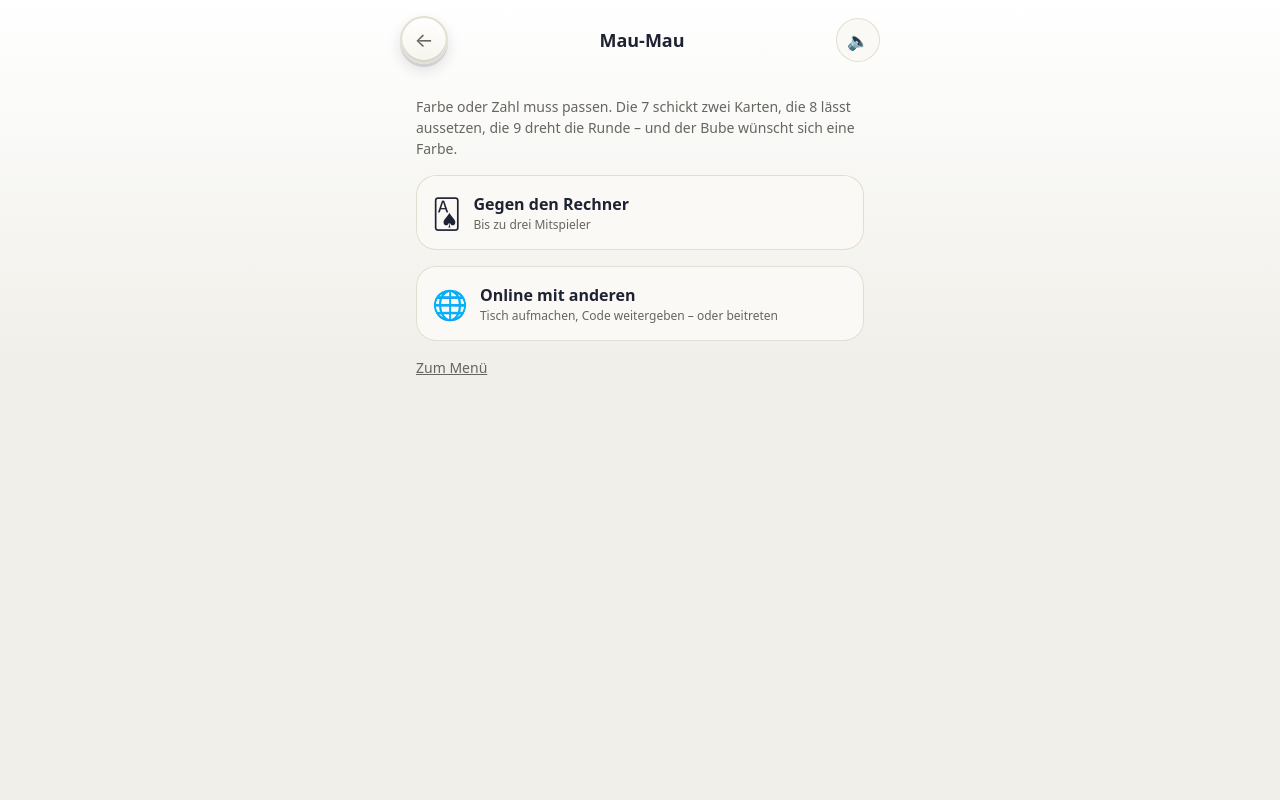
Test: Mau-Mau › teilt fünf Karten aus und zeigt den Nachziehstapel
Click the button "🂡 Gegen den Rechner Bis zu drei Mitspieler" at (551, 204), box [416,175,864,250]
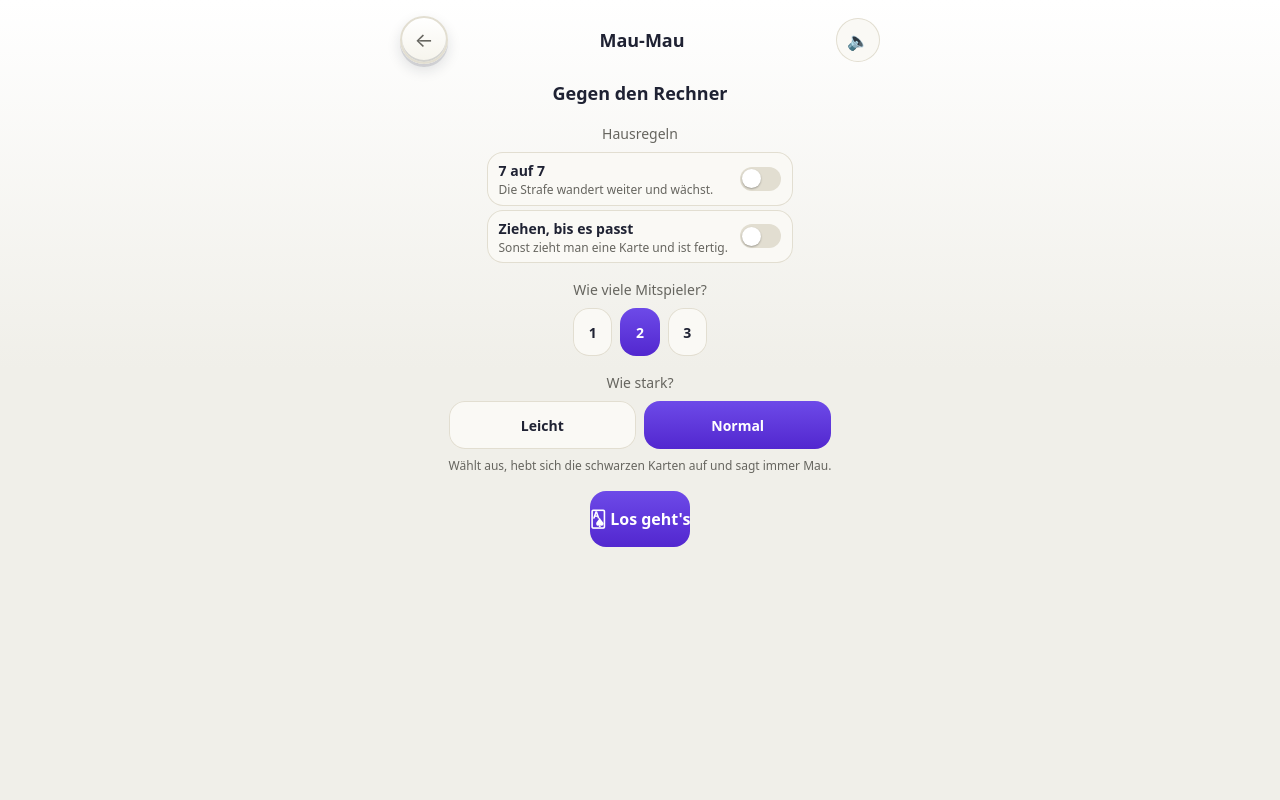
Click the button "1" at (593, 332), box [573,308,612,356]
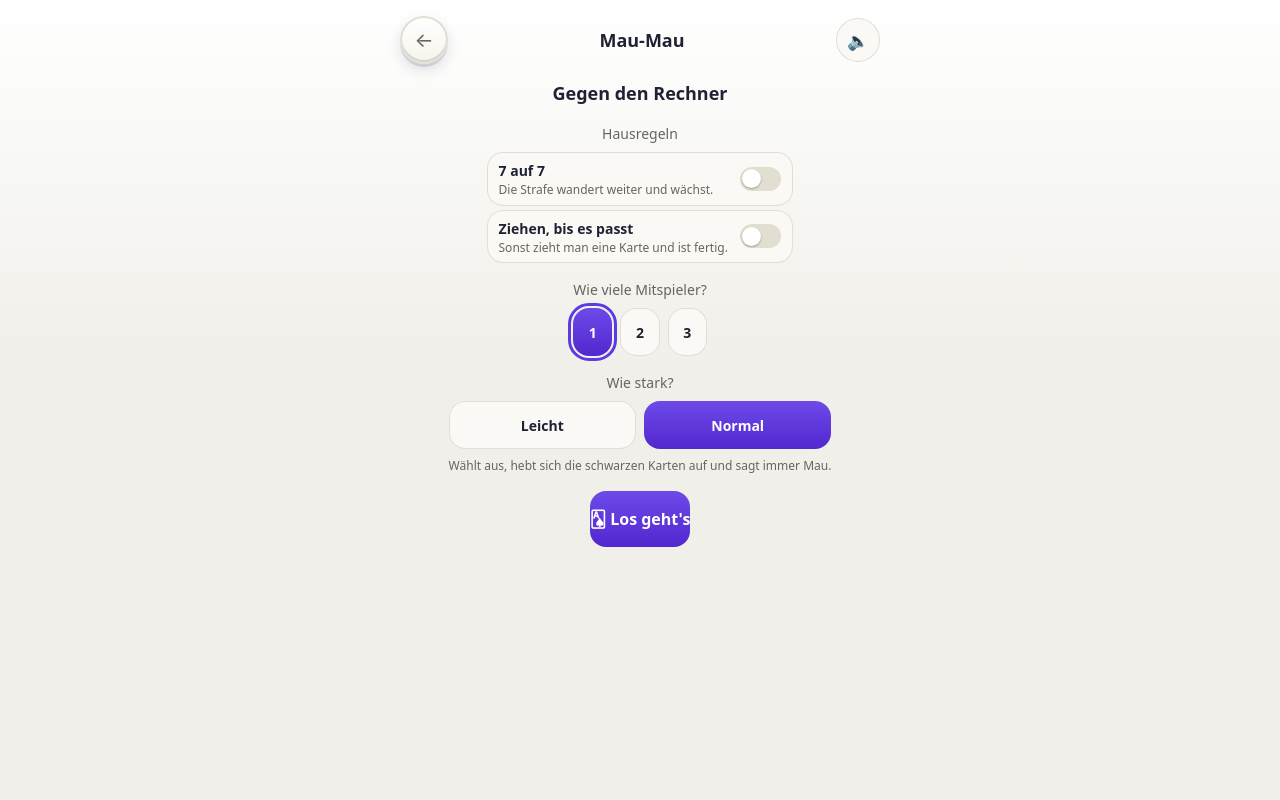
Click the button "🂡 Los geht's" at (640, 519), box [590,491,690,547]
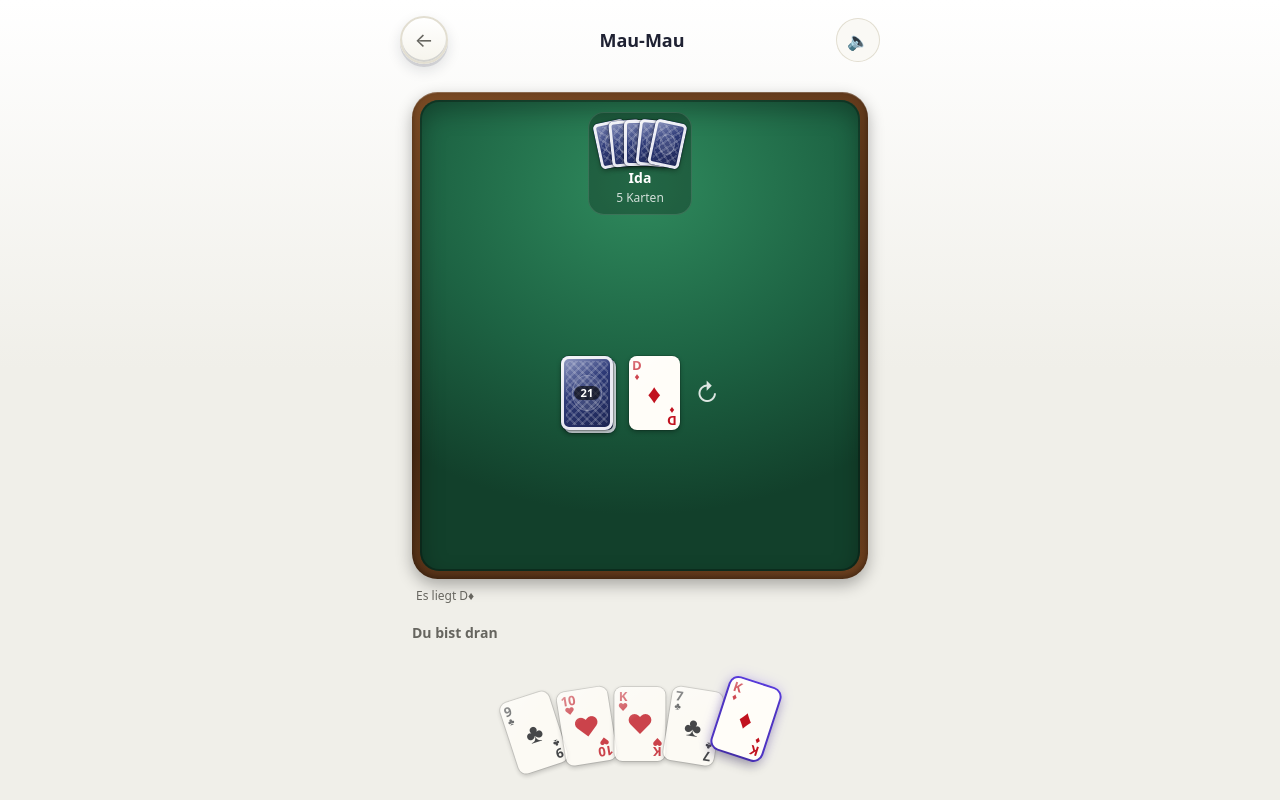
expect the button "21" is shown: met, box [561,356,613,430]
